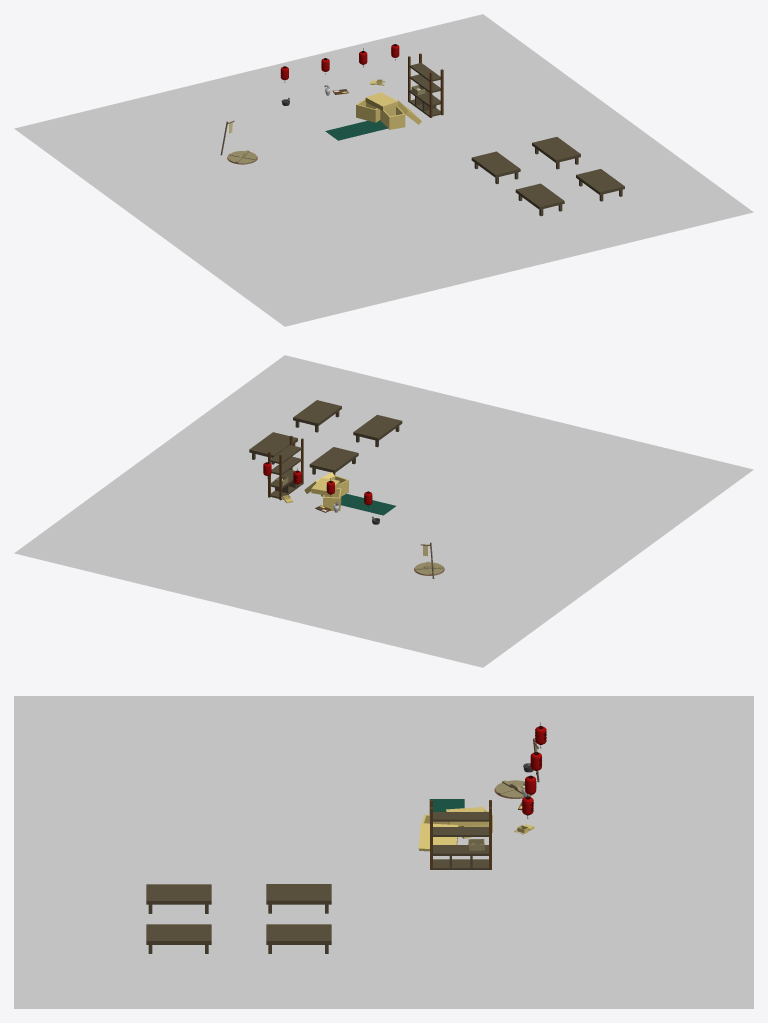
File: CarritoV3.fbx
The picture shows the model from 3 angles, top to bottom: view 1: azimuth 30°, elevation 25°; view 2: azimuth 150°, elevation 25°; view 3: azimuth 270°, elevation 25°; orthographic projection. The views are drawn at different scales.
Visible parts, largest first — view 1: PisoExterior, Estanteria, Mesa3Exterior, Mesa1EXterior, Mesa4Exterior, Mesa2Exterior, Cube; view 2: PisoExterior, Estanteria, Mesa4Exterior, Mesa3Exterior, Mesa1EXterior, Mesa2Exterior, Cube; view 3: PisoExterior, Estanteria, Mesa3Exterior, Mesa4Exterior, Mesa1EXterior, Mesa2Exterior, ColgantesEstaciones, Cube.004.
Part boxes in pixels (box(x1,y1,x2,y2)): PisoExterior: box(14, 14, 753, 326); Estanteria: box(408, 53, 443, 117); Mesa3Exterior: box(515, 183, 564, 216); Mesa1EXterior: box(471, 151, 520, 183); Mesa4Exterior: box(576, 169, 624, 201); Mesa2Exterior: box(532, 137, 580, 169); Cube: box(325, 120, 387, 140); PisoExterior: box(14, 355, 753, 667); Estanteria: box(268, 436, 303, 500); Mesa4Exterior: box(293, 400, 341, 432); Mesa3Exterior: box(353, 414, 402, 447); Mesa1EXterior: box(309, 447, 358, 475); Mesa2Exterior: box(249, 432, 297, 464); Cube: box(341, 493, 395, 515); PisoExterior: box(14, 696, 753, 1008); Estanteria: box(430, 800, 491, 869); Mesa3Exterior: box(146, 884, 211, 913); Mesa4Exterior: box(146, 924, 211, 953); Mesa1EXterior: box(266, 884, 331, 913); Mesa2Exterior: box(266, 924, 331, 953); ColgantesEstaciones: box(522, 722, 546, 818); Cube.004: box(418, 823, 458, 851).
Bounding box in the file's own units: 27.15 × 5.27 × 27.15.
